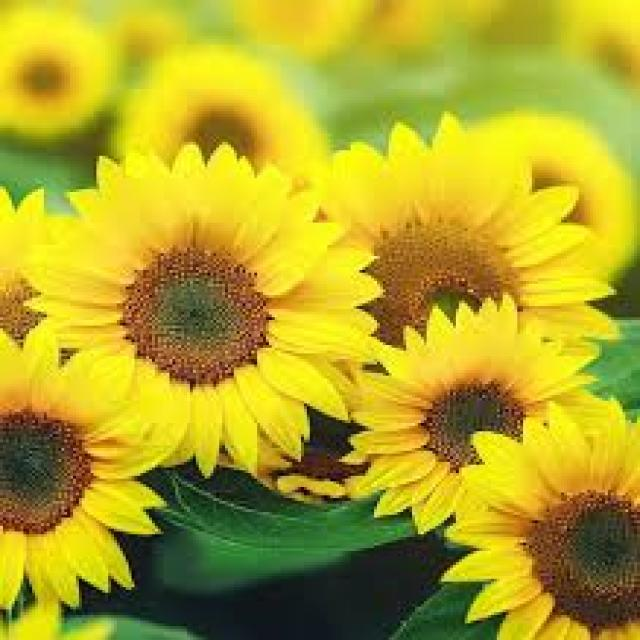sunflower: (15, 130, 387, 510), (288, 110, 628, 391), (334, 292, 614, 546), (0, 310, 186, 614), (432, 392, 640, 639), (89, 41, 345, 208), (453, 100, 640, 294), (0, 168, 137, 400), (0, 0, 115, 136), (0, 597, 133, 640)
